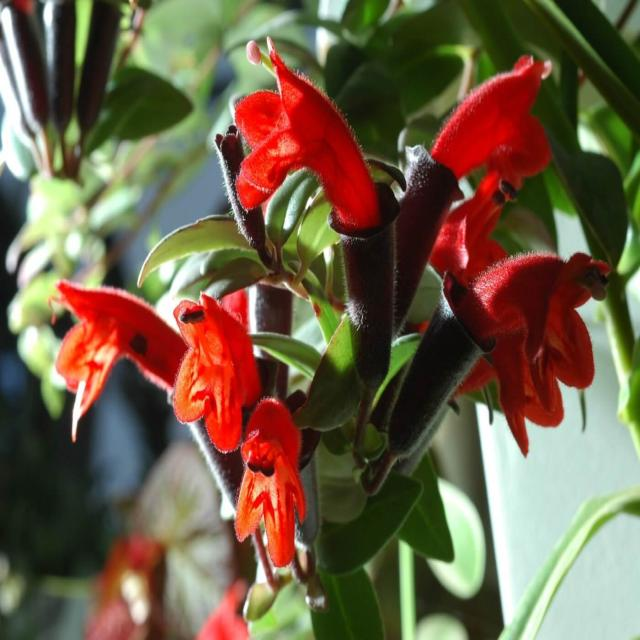Lipstick-Plant: (242, 4, 621, 463), (44, 243, 319, 573)
